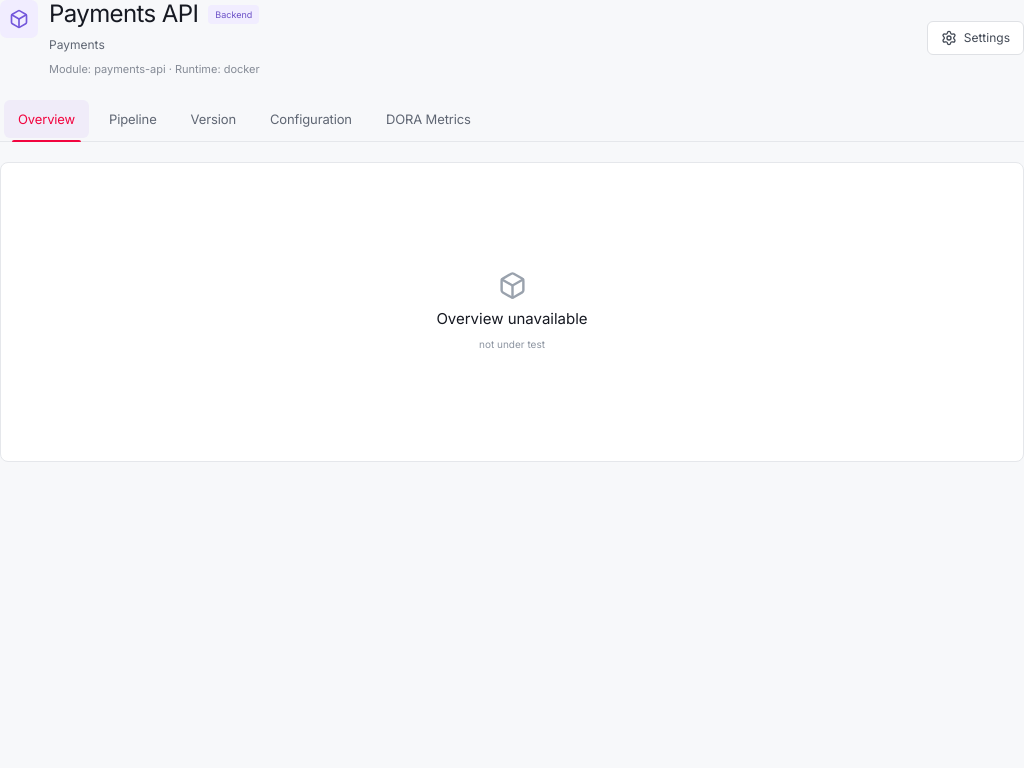
admission and supersession in the portal (ADR-050) › names the run that superseded a cancelled one, and opens it
The image size is (1024, 768).
Expected: the heading "Payments API" is shown, [49,0,198,29]
What coordinates should you click on to do the following:
click the tab "Pipeline"
I would click on:
 (133, 119)
Its box is [95,100,171,138].
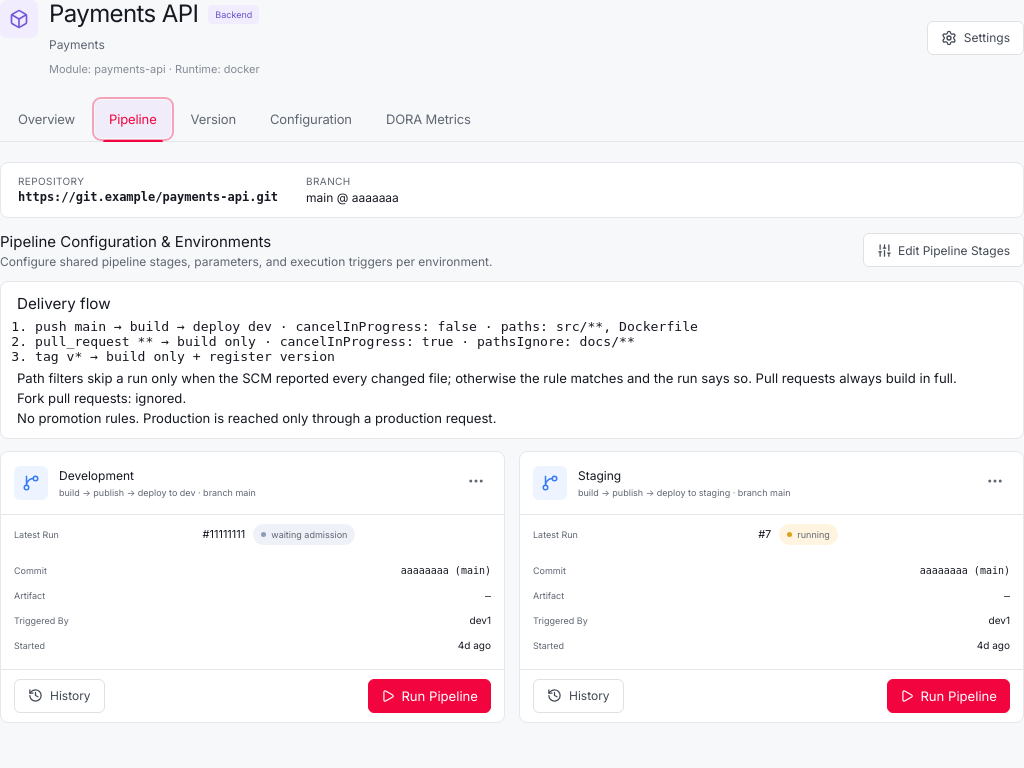
What coordinates should you click on to do the following:
click the button named "Open history Staging"
I would click on:
 (995, 483)
Its box is [980,471,1010,494].
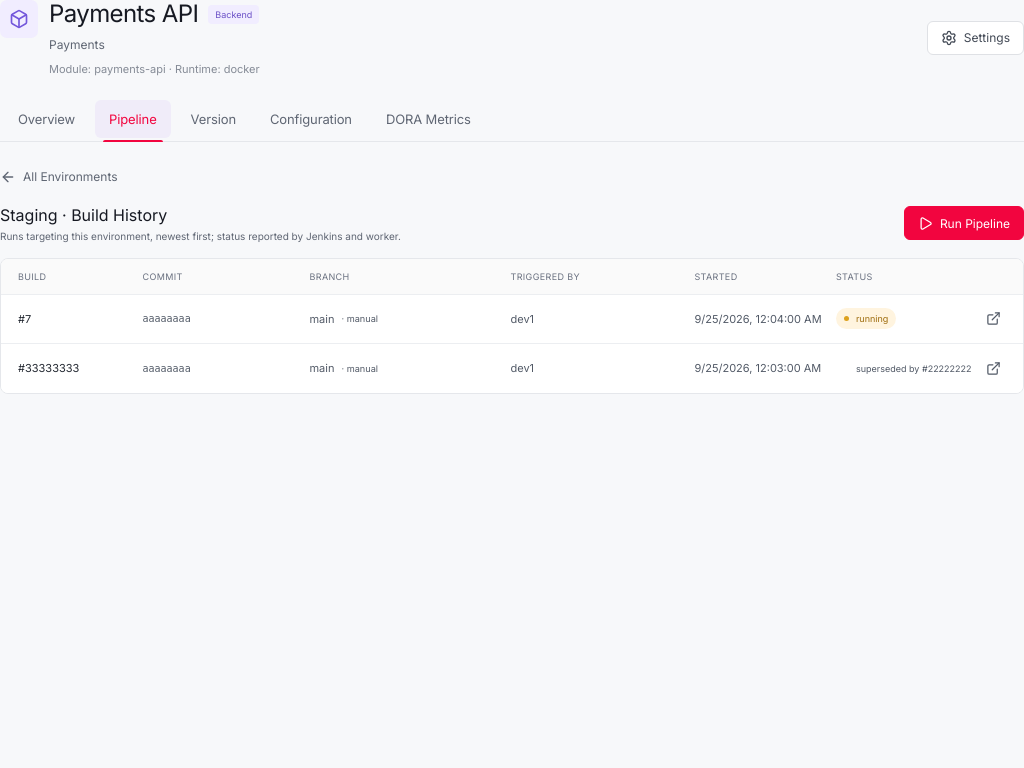
Result: the button "superseded by #22222222" is shown
What coordinates should you click on to do the following:
click the button "superseded by #22222222"
I would click on:
 (512, 368)
Its box is [1,344,1023,393].
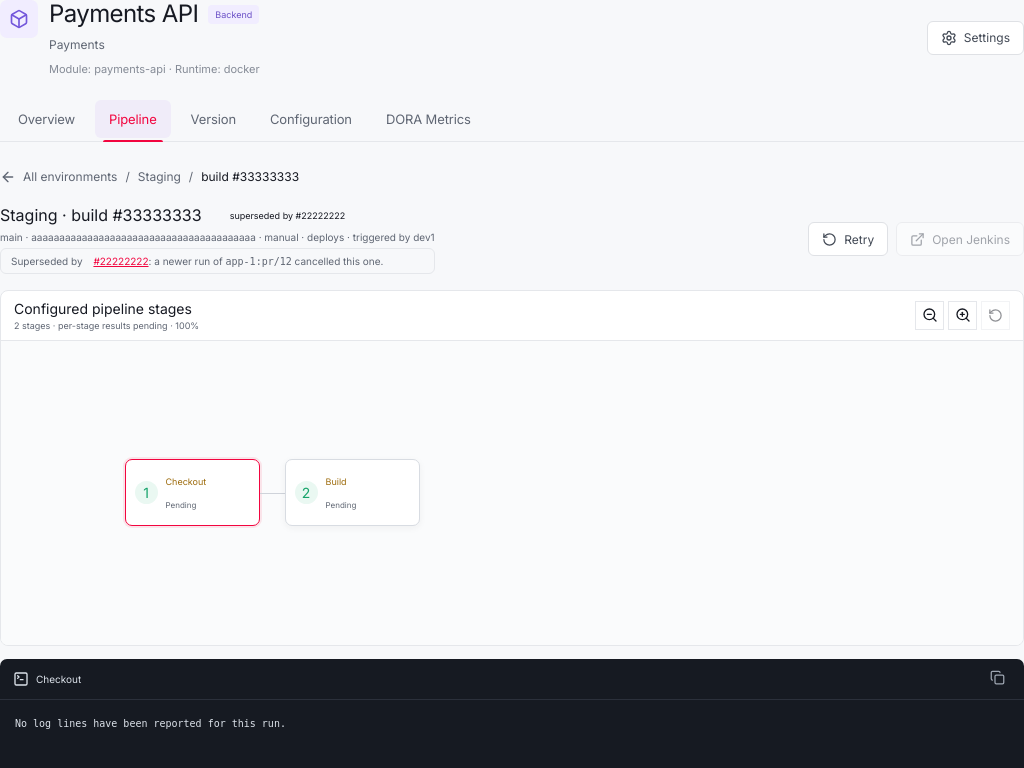
Result: the element with test id "run-superseded-notice" shows "Superseded by #22222222" at [0,248,435,274]
Result: the element with test id "run-superseded-notice" shows "app-1:pr/12" at [226,256,292,267]
What coordinates should you click on to do the following:
click the button "#22222222"
I would click on:
 (117, 261)
Its box is [85,255,148,267].
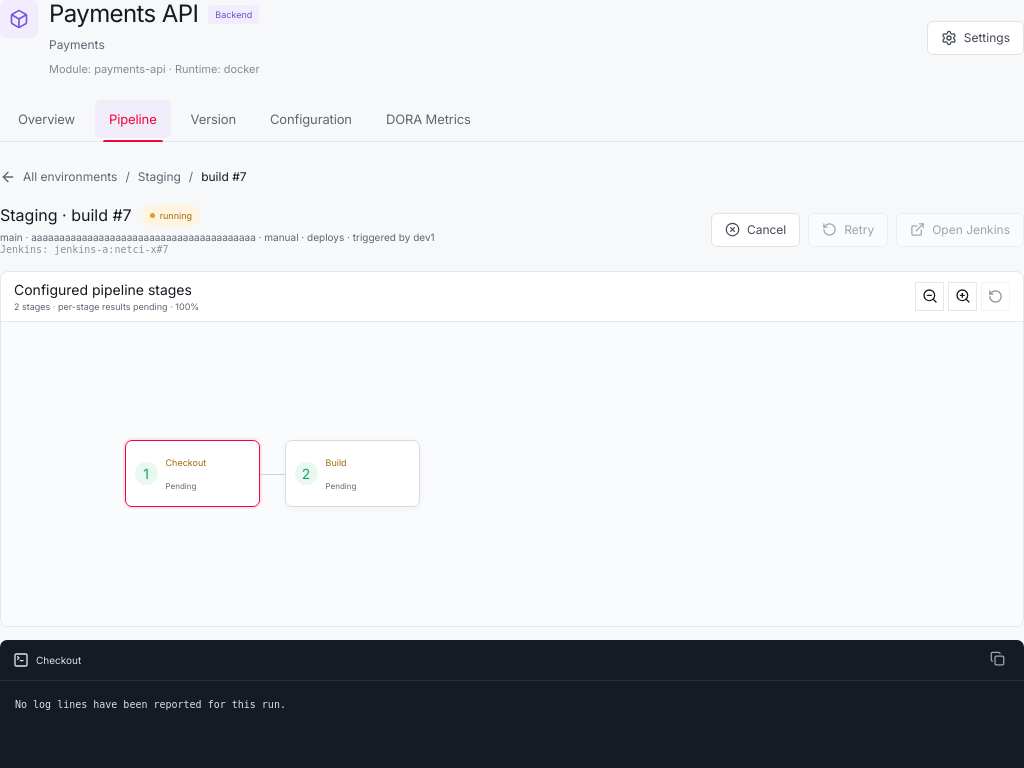
Result: the heading "Staging · build #7" is shown at [0,205,132,225]
Result: the element with test id "run-superseded-notice" is gone
